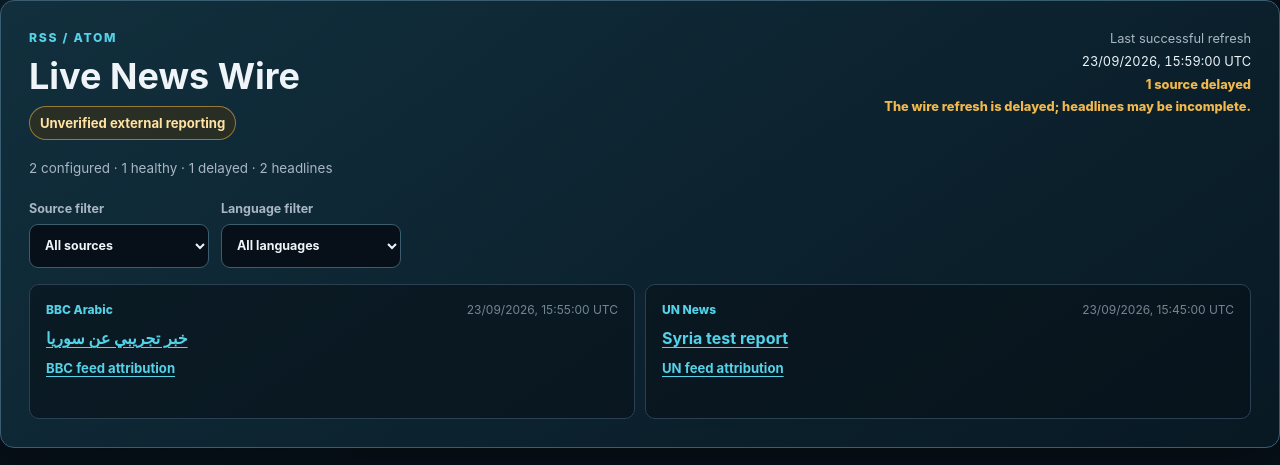
Test: NewsWire › keeps the unverified disclosure and safe original-language links visible
The image size is (1280, 465).
Check: the heading "Live News Wire" is shown, box 29,56 -> 300,98
Check: the text "Unverified external reporting" is shown, box 29,106 -> 236,140
Select "BBC Arabic" in the dropdown labelled "Source filter" at (119, 246), box 29,224 -> 209,268
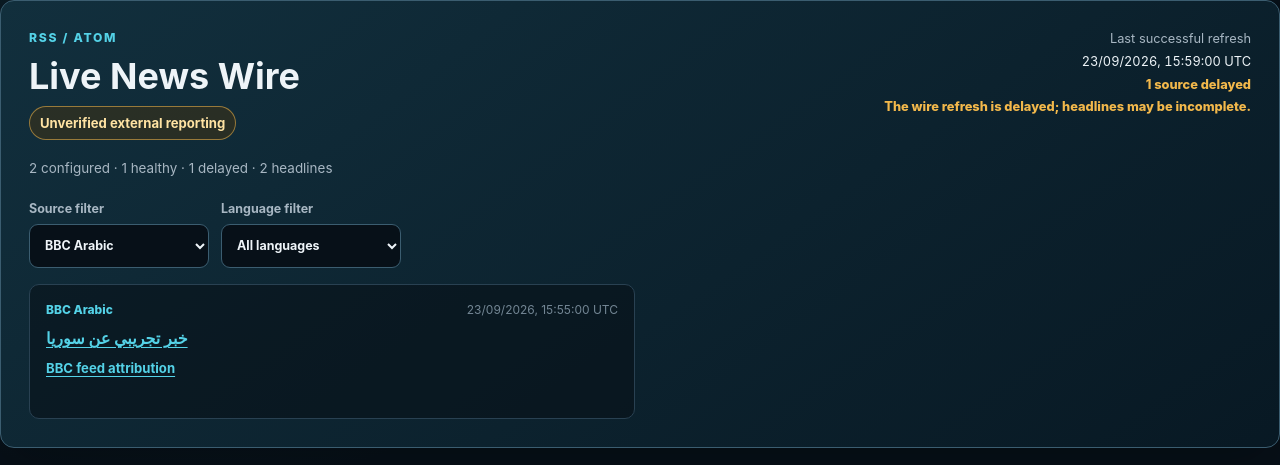
Check: the link "خبر تجريبي عن سوريا" is shown, box 46,328 -> 188,348
Check: the link "Syria test report" is gone
Select "All sources" in the dropdown labelled "Source filter" at (119, 246), box 29,224 -> 209,268
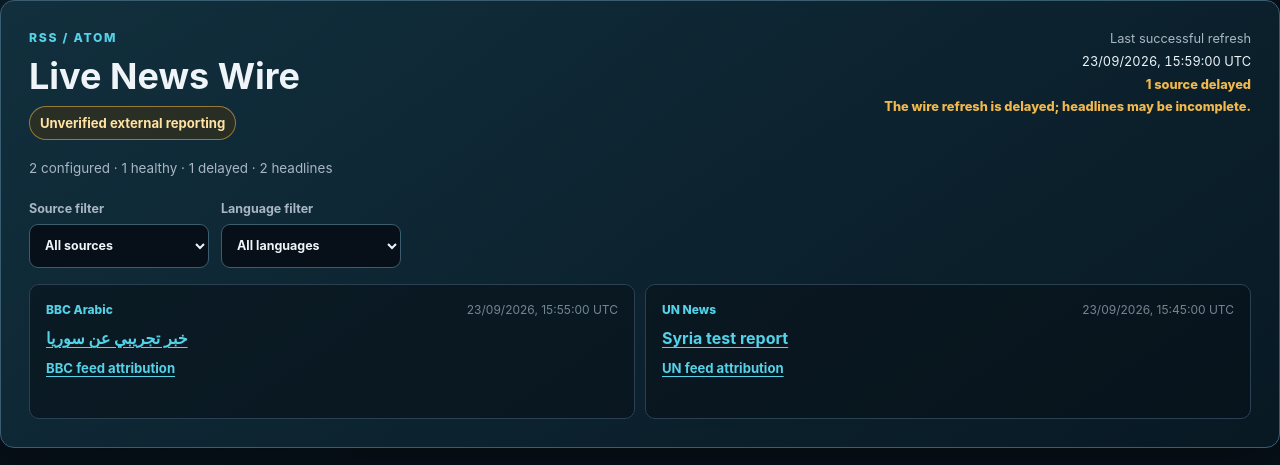
Select "English" in the dropdown labelled "Language filter" at (311, 246), box 221,224 -> 401,268
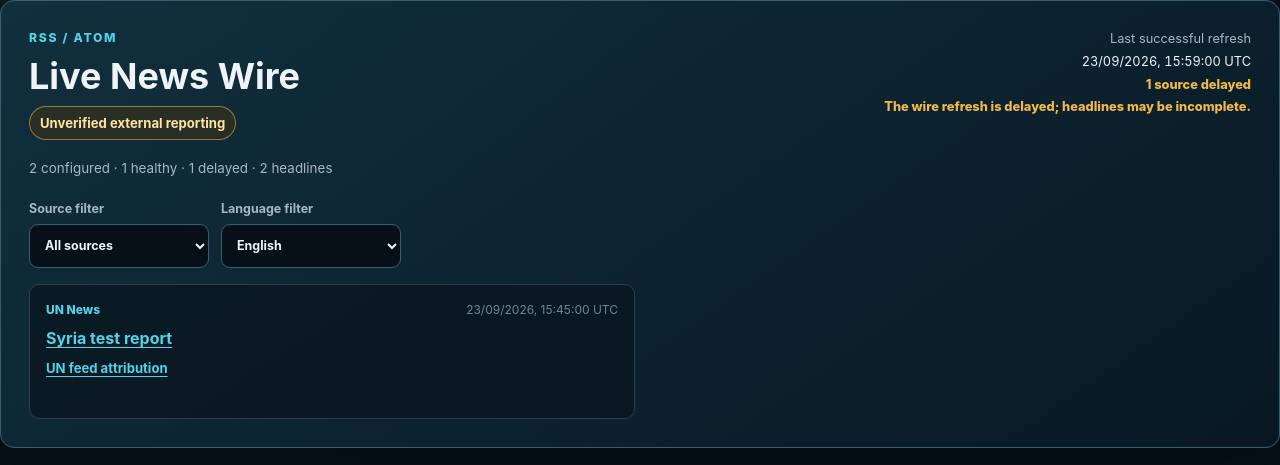
Check: the link "Syria test report" is shown, box 46,328 -> 172,348
Check: the link "خبر تجريبي عن سوريا" is gone
